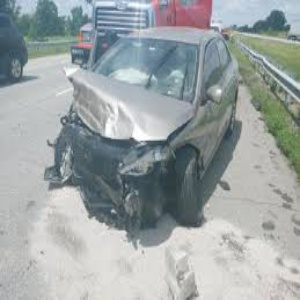bonnet: (72, 69, 172, 143)
bumper: (72, 153, 161, 228)
